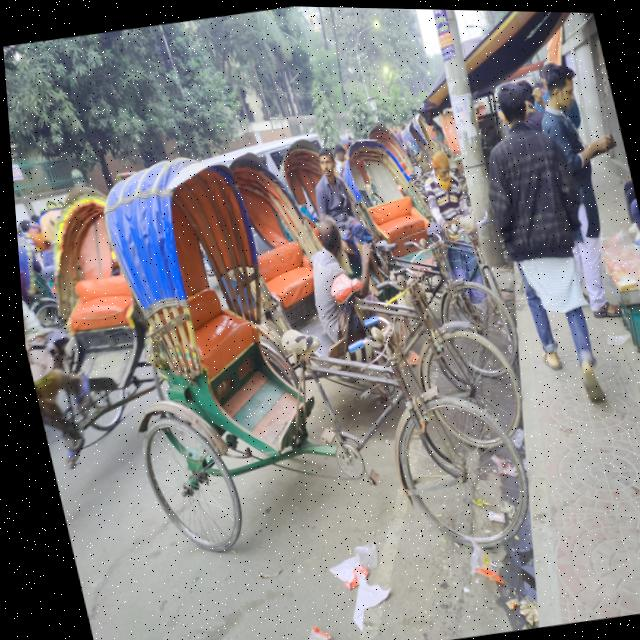rikshaw: (88, 120, 529, 632), (209, 104, 533, 469), (10, 167, 191, 475), (265, 105, 412, 327)
